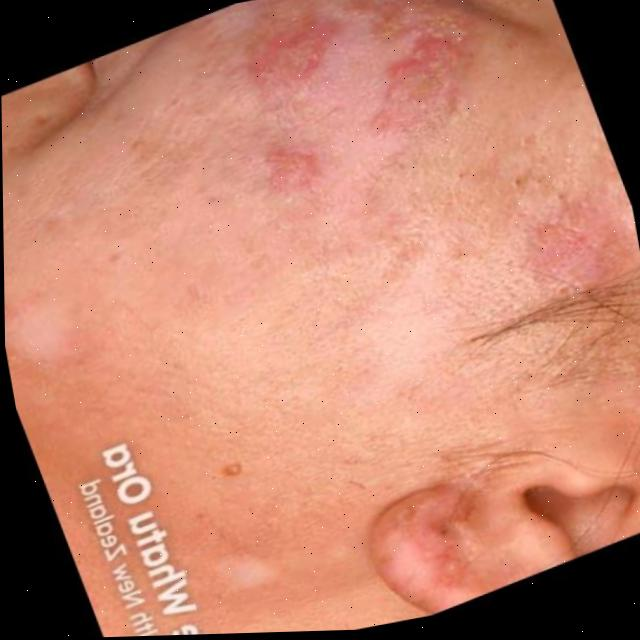Eczema: (232, 0, 613, 358)
